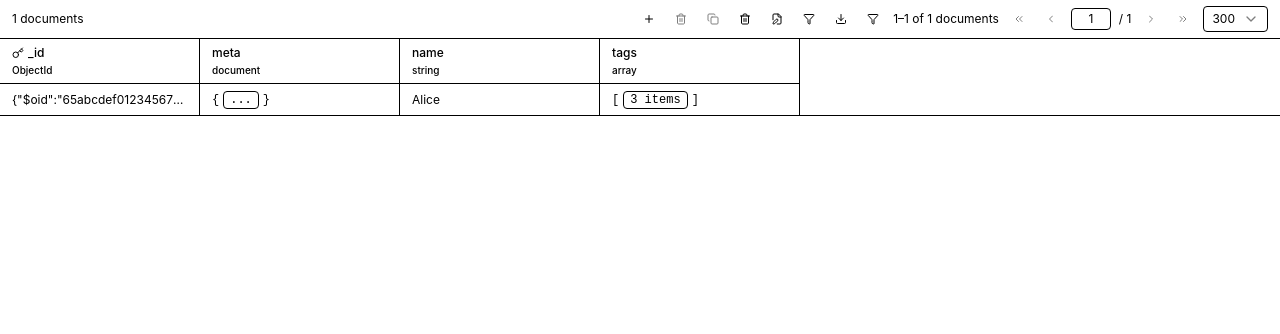
Scenario: DocumentDataGrid — nested inline tree (Sprint 341 Option D) › inline edit on tree leaf › Enter records the pendingEdit and surfaces the edited value
Expected: the text "Alice" is shown, x1=412 y1=92 x2=440 y2=108
Click the button named "Expand meta" at (241, 100), box x1=223 y1=90 x2=259 y2=108
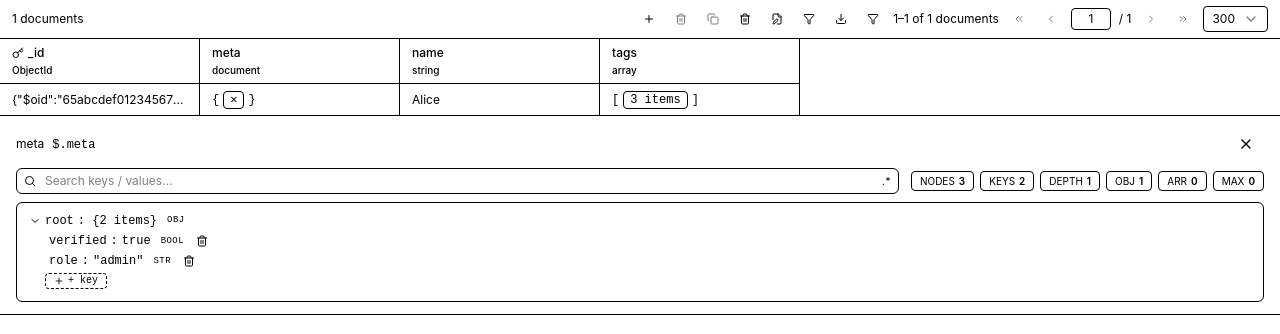
Click the button with test id "tree-leaf-role" at (118, 261), box x1=93 y1=253 x2=143 y2=269
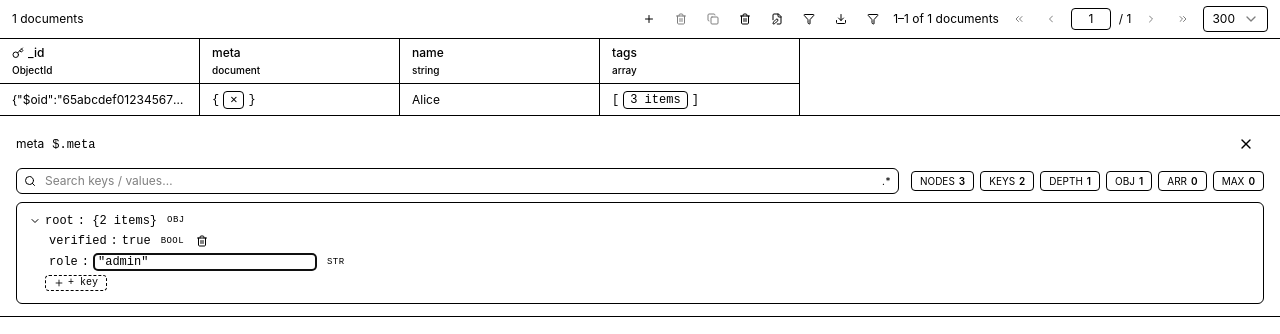
Replace the text in the field with test id "tree-edit-role" with "\"owner\"" at (205, 262), box x1=93 y1=253 x2=317 y2=271
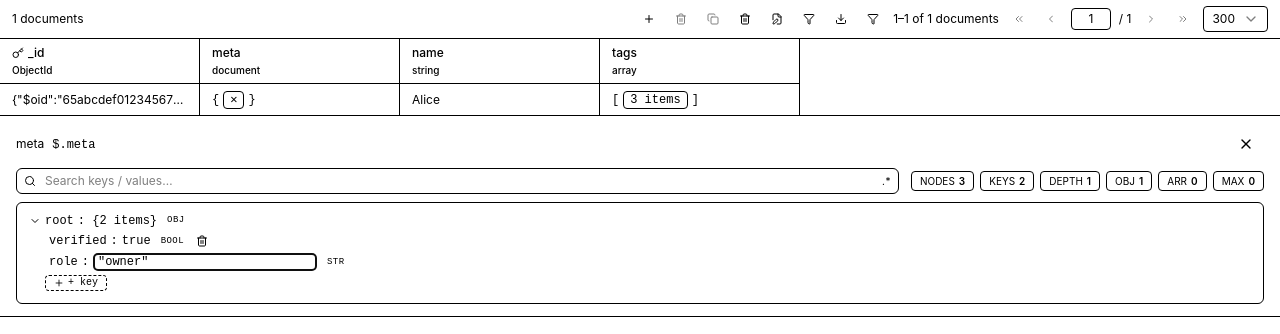
Press Enter in the field with test id "tree-edit-role", box x1=93 y1=253 x2=317 y2=271
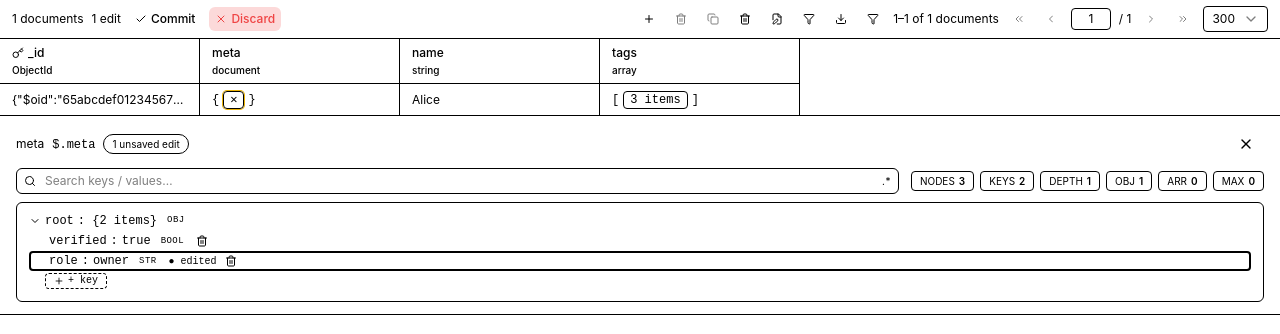
Now the button with test id "tree-leaf-role" reads "owner", box x1=93 y1=253 x2=129 y2=269
Now the text with test id "document-tree-pending-pill" reads "1 unsaved edit", box x1=112 y1=138 x2=180 y2=150
